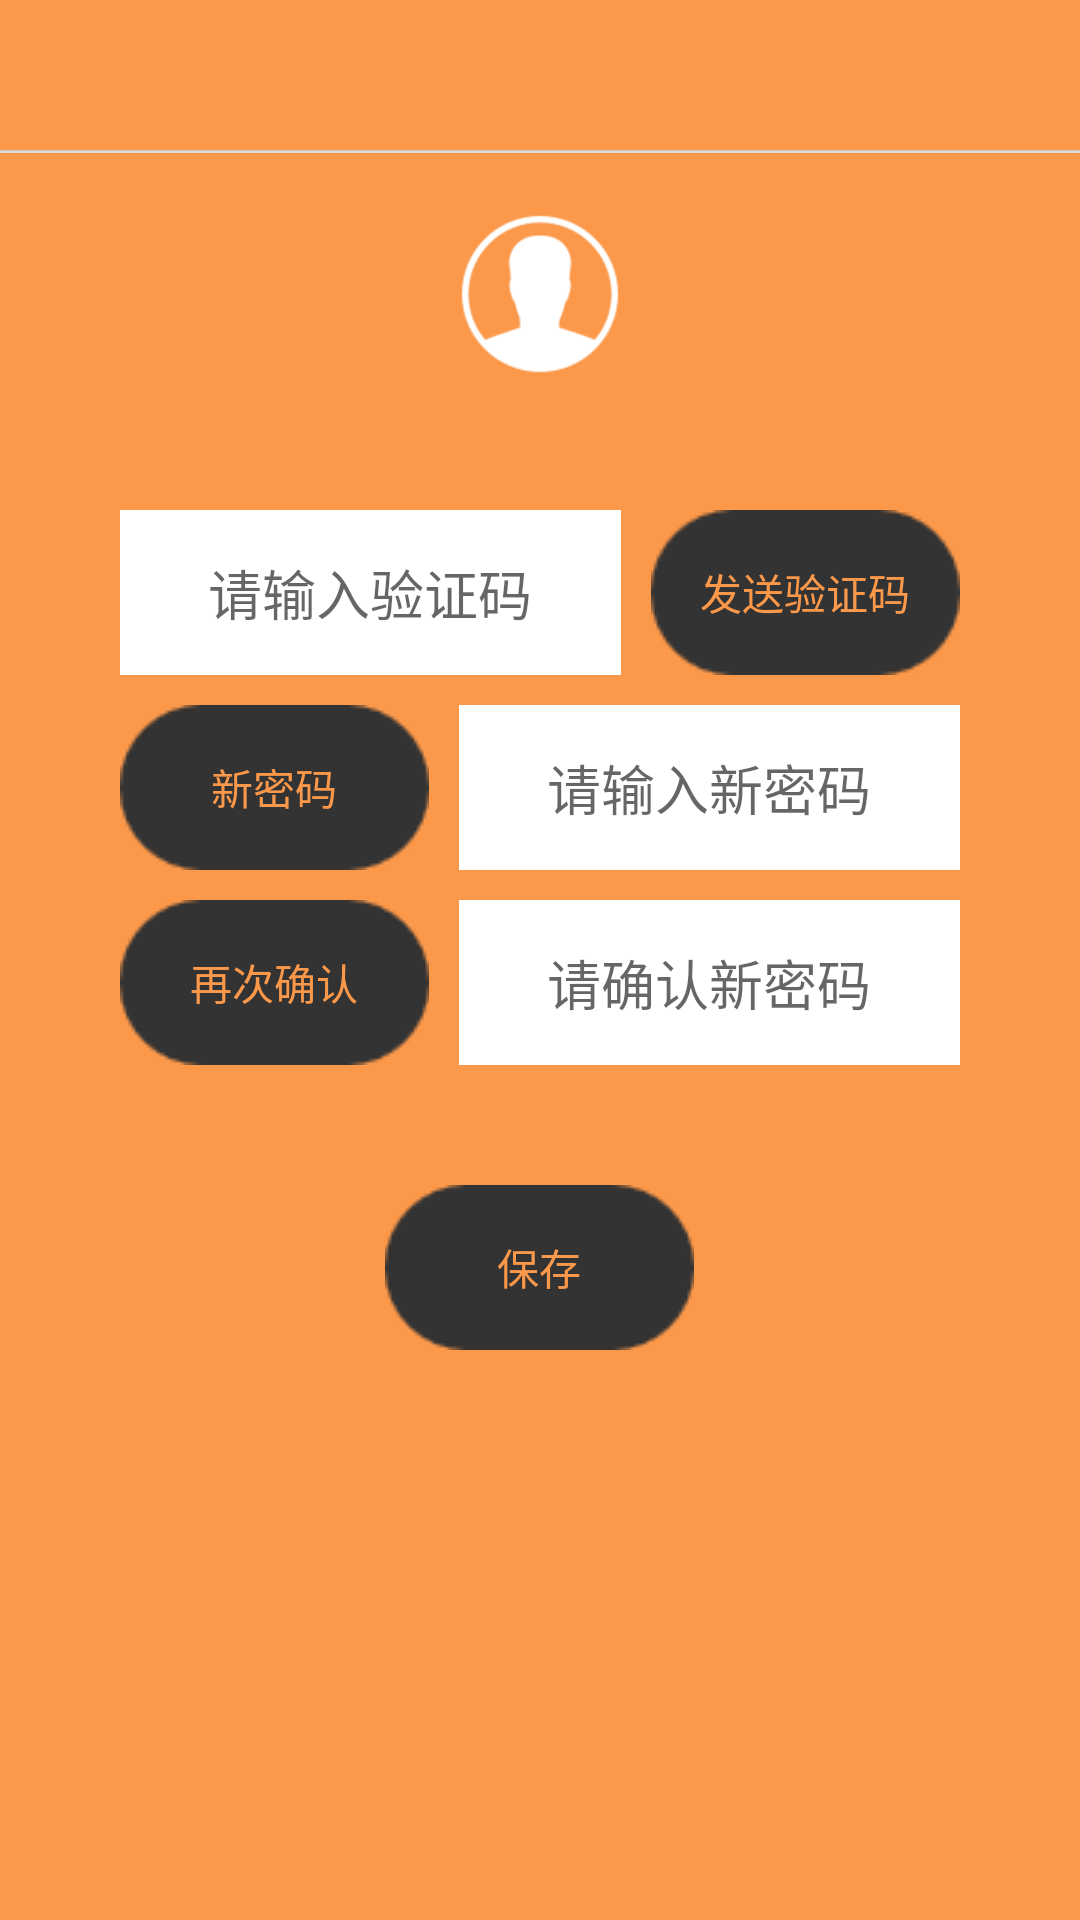

Screen size 1080 x 1920. Icon name, then its center in pixels as (x,y):
touxiang: (540,294)
